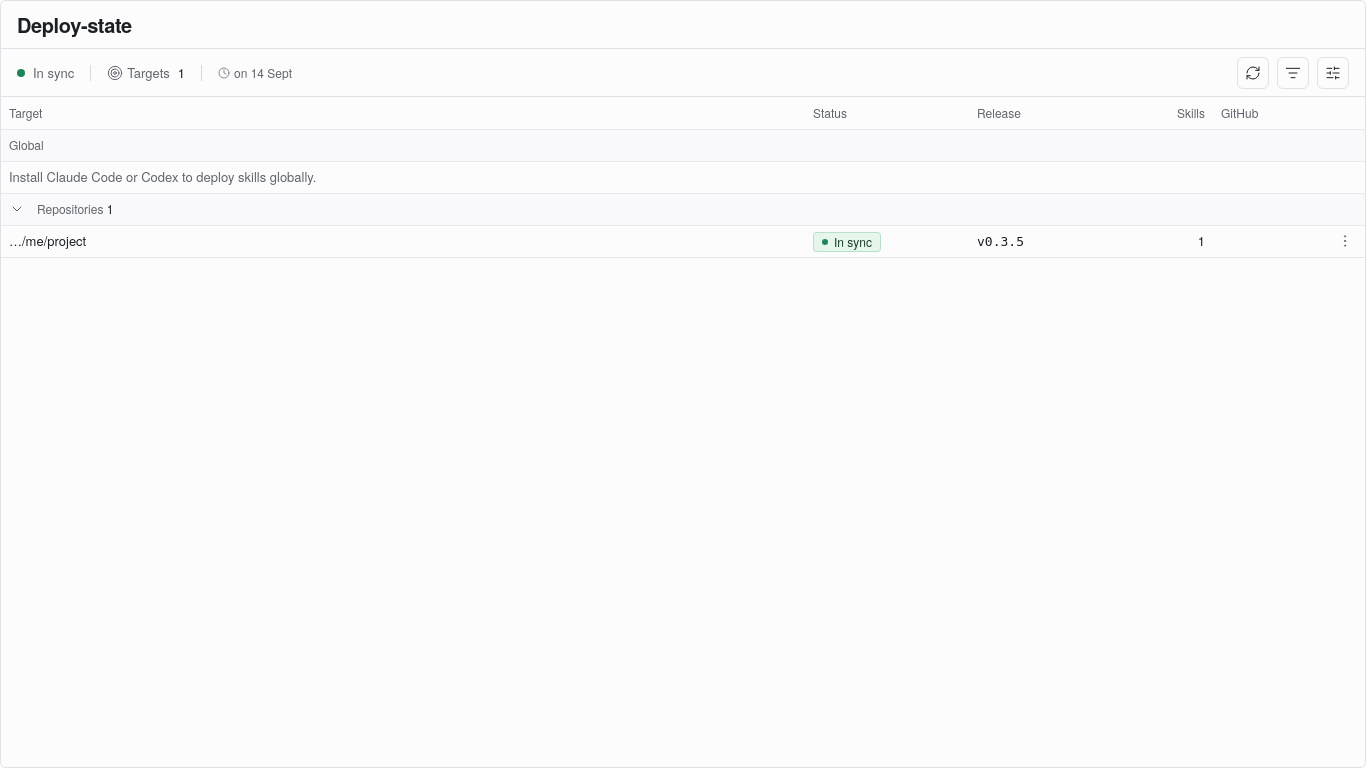
Test: Deploy-state — Update target on a repository › lists only Deploy skill in an In sync target's menu, and says why on hover
Click the button named "Actions for …/me/project" at (1345,240), box [1333, 228, 1357, 252]
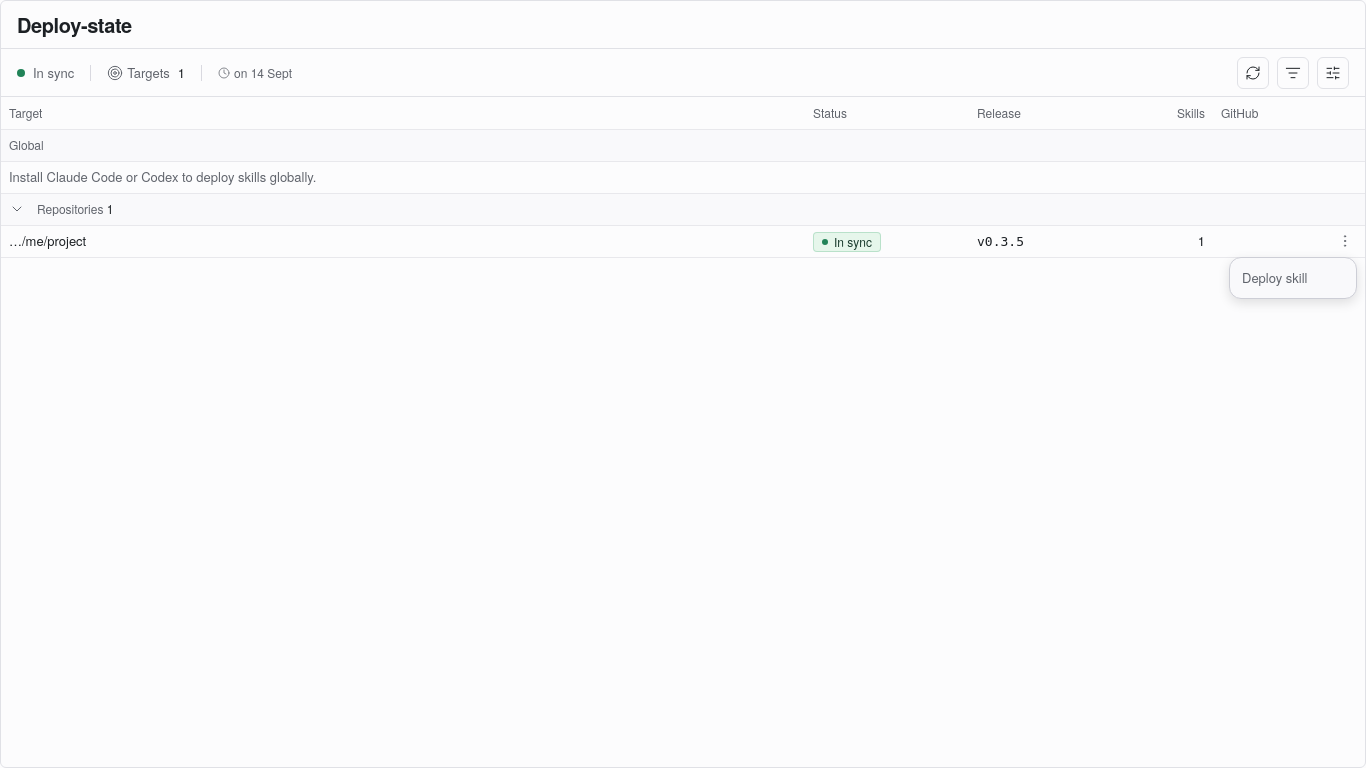
Expected: the menu items read "Deploy skill", in this order, [1242, 268, 1308, 287]
Press Escape
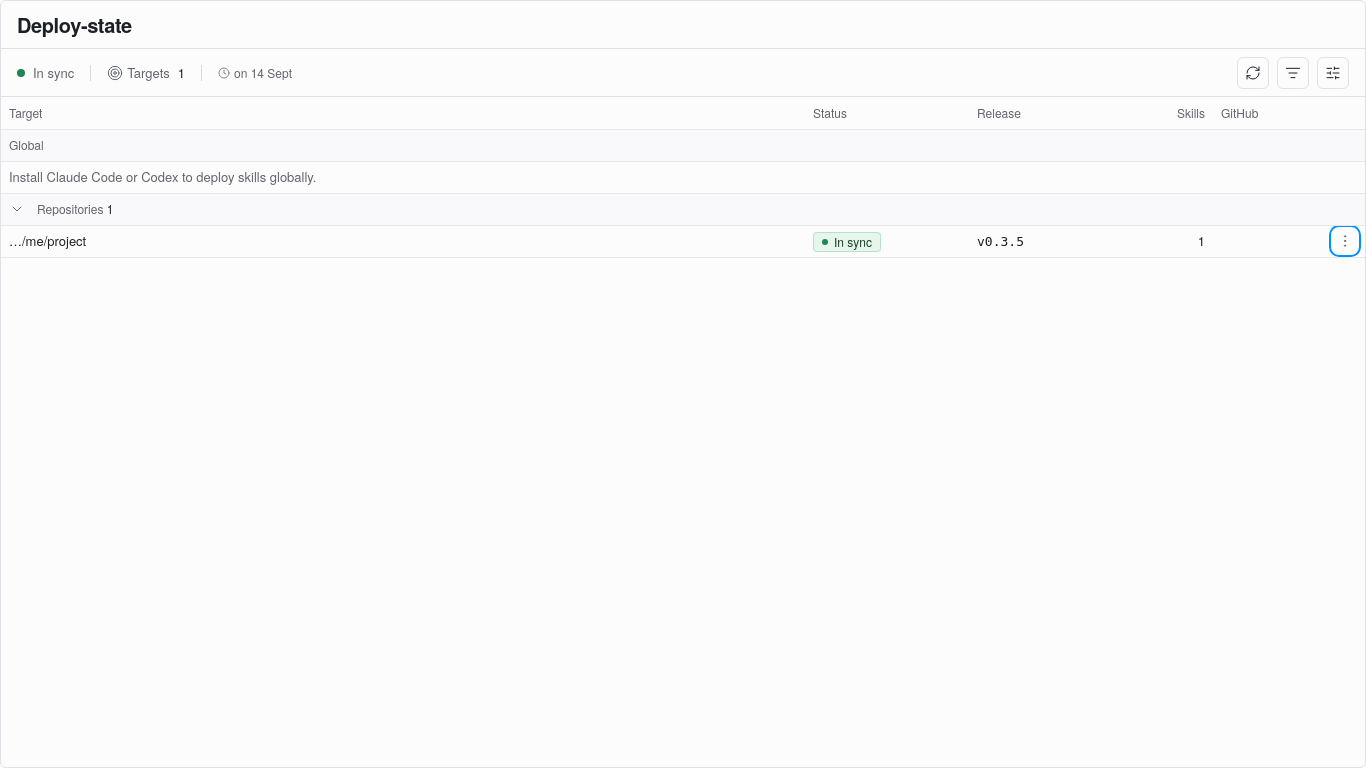
Hover over the text "In sync" at (847,242), box [813, 232, 881, 252]
Wait 400 ms
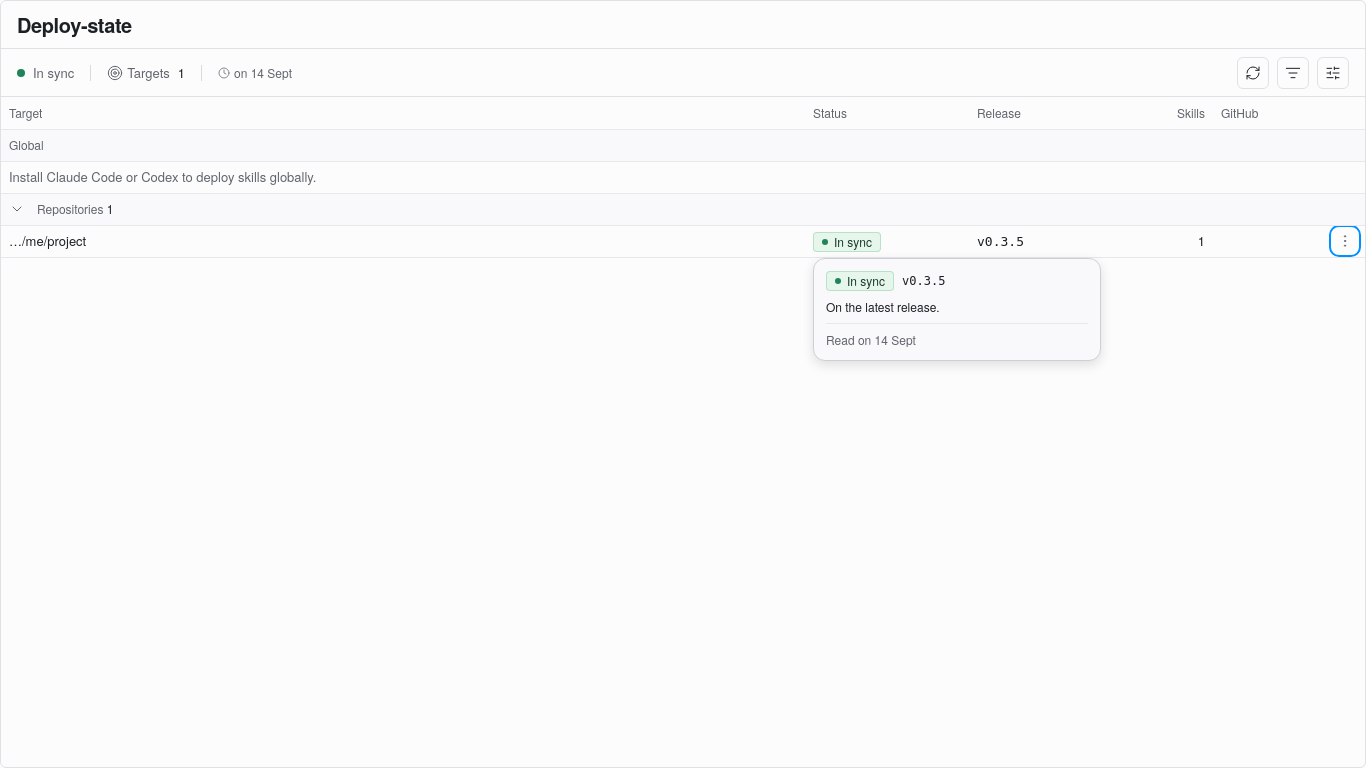
Expected: the text "On the latest release." is shown, [826, 298, 940, 315]
